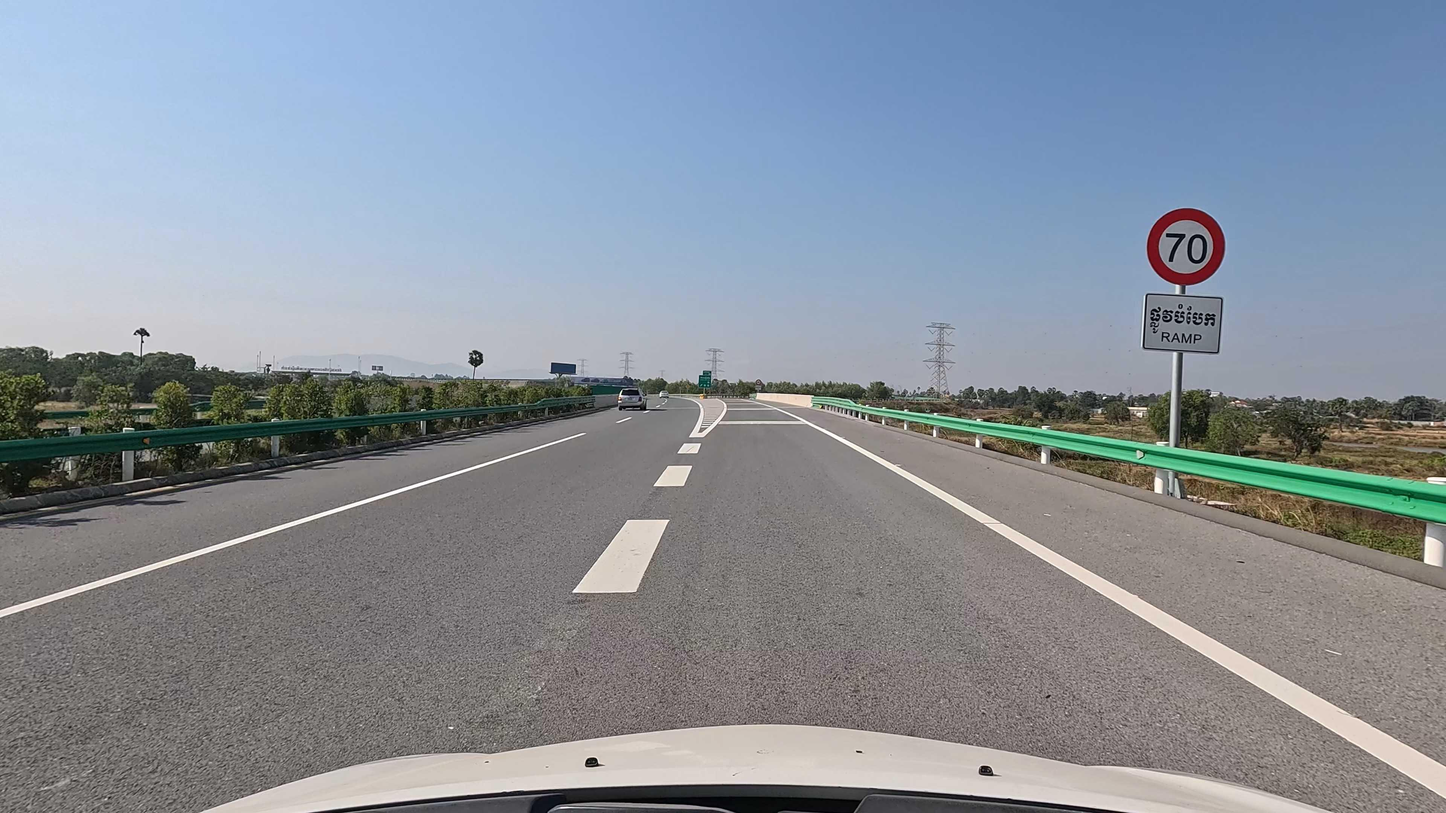speed_limit_70: (1147, 202, 1229, 289)
